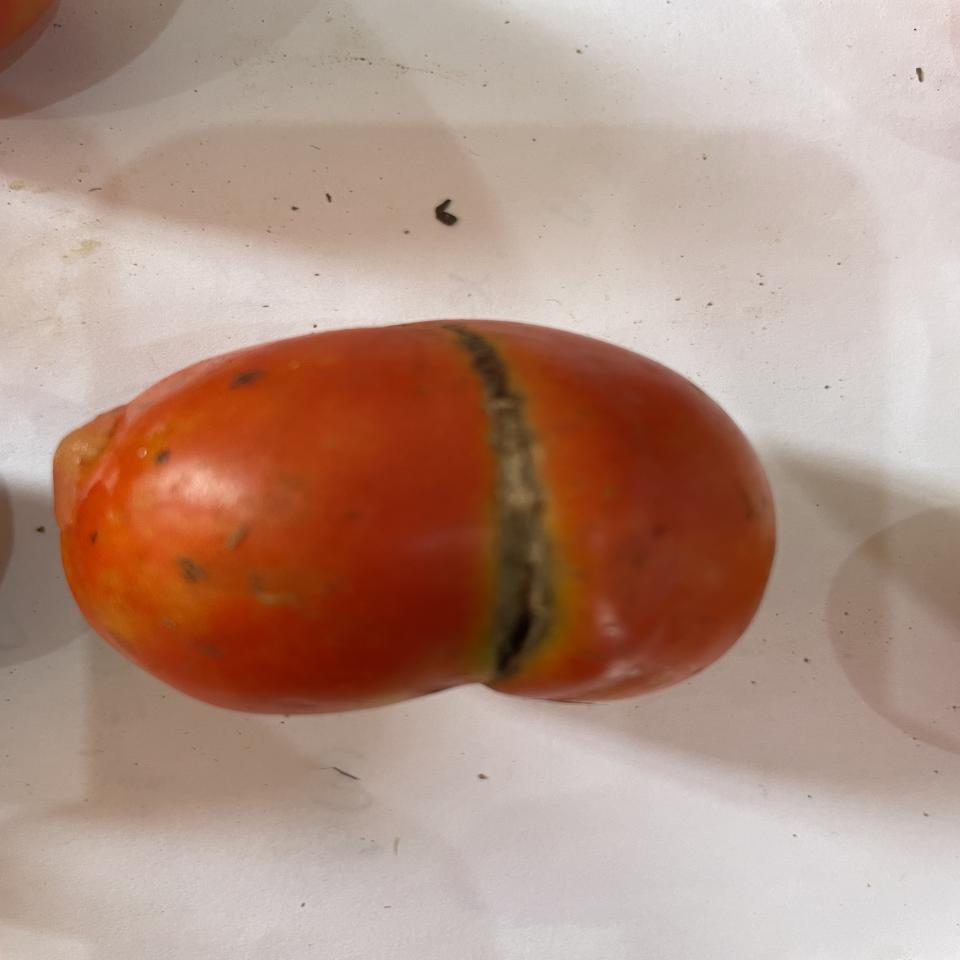Cracking: (448, 329, 565, 712)
